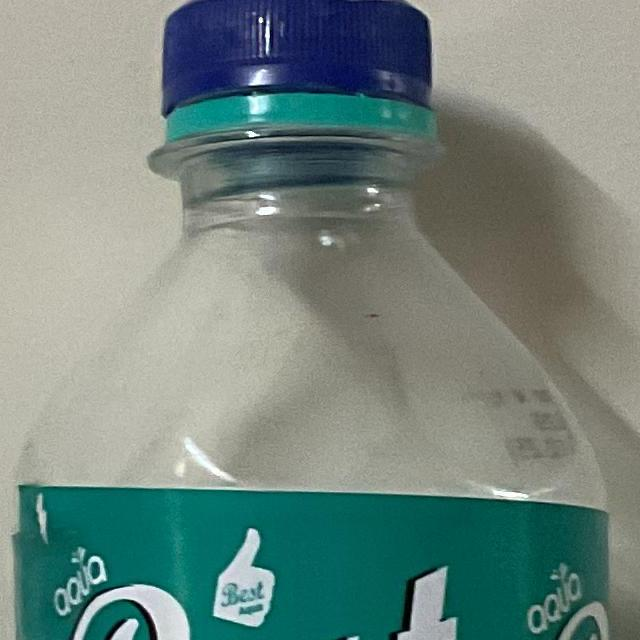Good-cap-Df0S: (141, 0, 446, 161)
